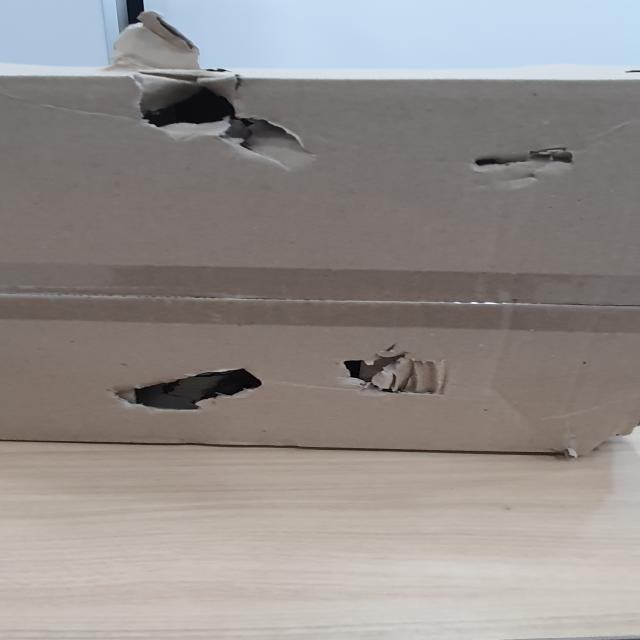hole: (115, 70, 319, 159), (97, 357, 273, 413), (462, 128, 595, 189), (329, 347, 429, 395)
